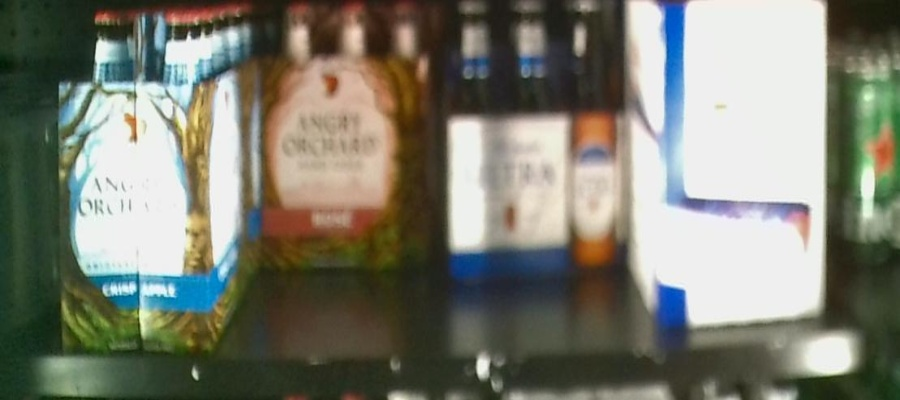bottle: (60, 2, 254, 353), (627, 1, 827, 330), (449, 1, 621, 286), (256, 1, 427, 277)
